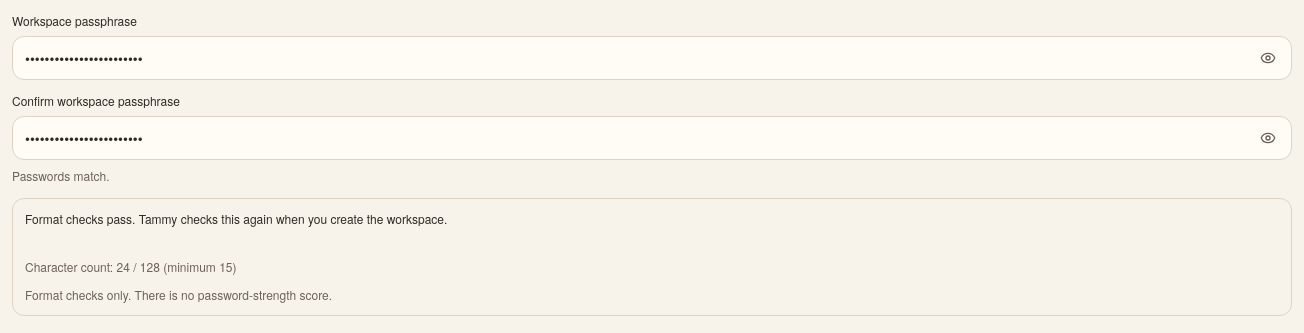
Test case: starts masked and provides independent keyboard-accessible show controls
The width and height of the screenshot is (1304, 333).
Step 1. Click the button named "Show workspace passphrase" → click(1268, 58), box x1=1252 y1=42 x2=1284 y2=74
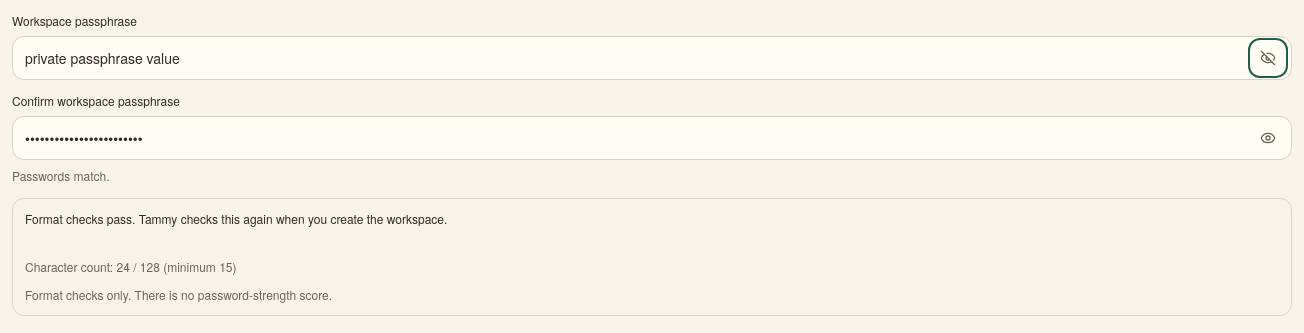
Now the field labelled "Workspace passphrase" shows its text, box x1=12 y1=36 x2=1292 y2=80
Step 2. Click the button named "Hide workspace passphrase" → click(1268, 58), box x1=1252 y1=42 x2=1284 y2=74
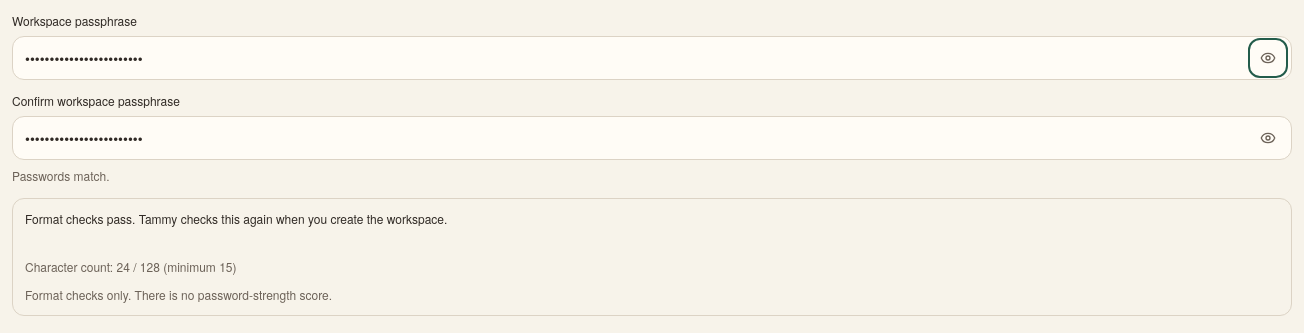
Now the password field labelled "Workspace passphrase" hides its text, box x1=12 y1=36 x2=1292 y2=80
Step 3. Click the button named "Show confirm workspace passphrase" → click(1268, 138), box x1=1252 y1=122 x2=1284 y2=154
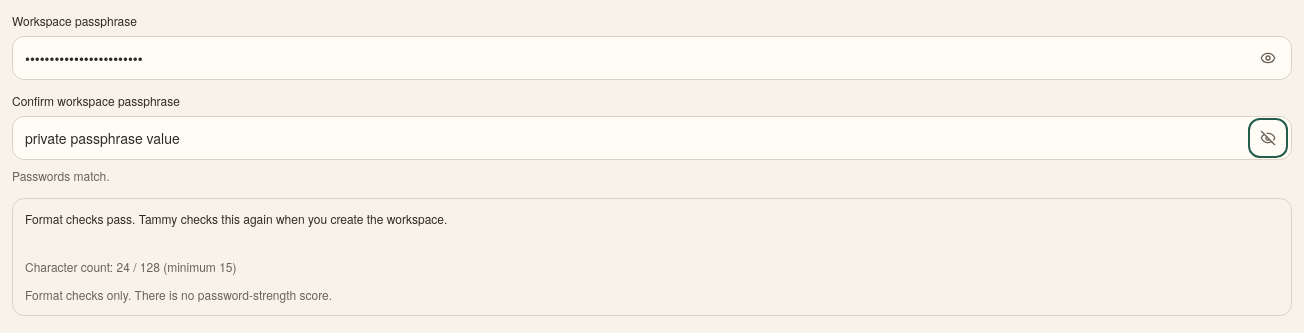
Now the password field labelled "Workspace passphrase" hides its text, box x1=12 y1=36 x2=1292 y2=80
Now the field labelled "Confirm workspace passphrase" shows its text, box x1=12 y1=116 x2=1292 y2=160
Step 4. Click the button named "Hide confirm workspace passphrase" → click(1268, 138), box x1=1252 y1=122 x2=1284 y2=154
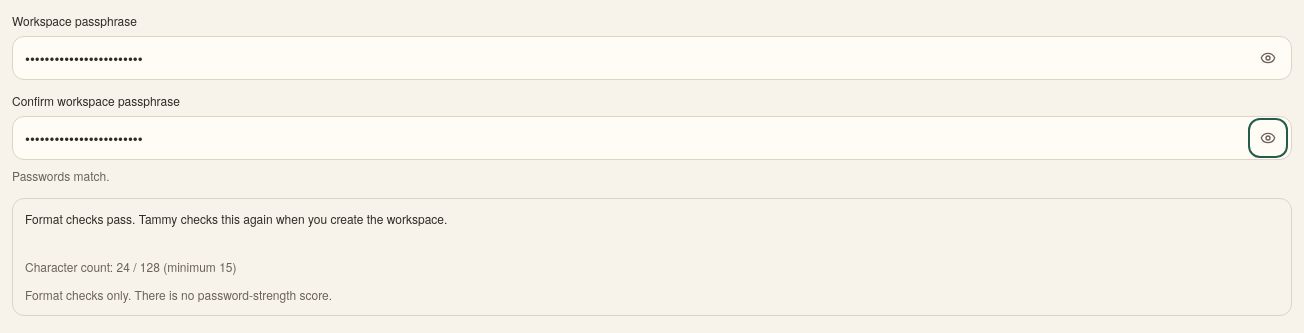
Now the password field labelled "Confirm workspace passphrase" hides its text, box x1=12 y1=116 x2=1292 y2=160
